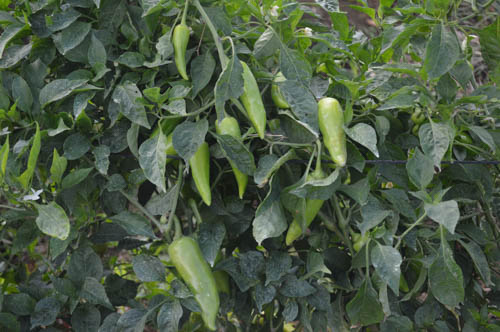ChiliPepper: (167, 237, 223, 326), (285, 174, 329, 254), (214, 120, 252, 198), (239, 62, 272, 137), (316, 97, 347, 167), (188, 142, 215, 207), (171, 27, 192, 81)
